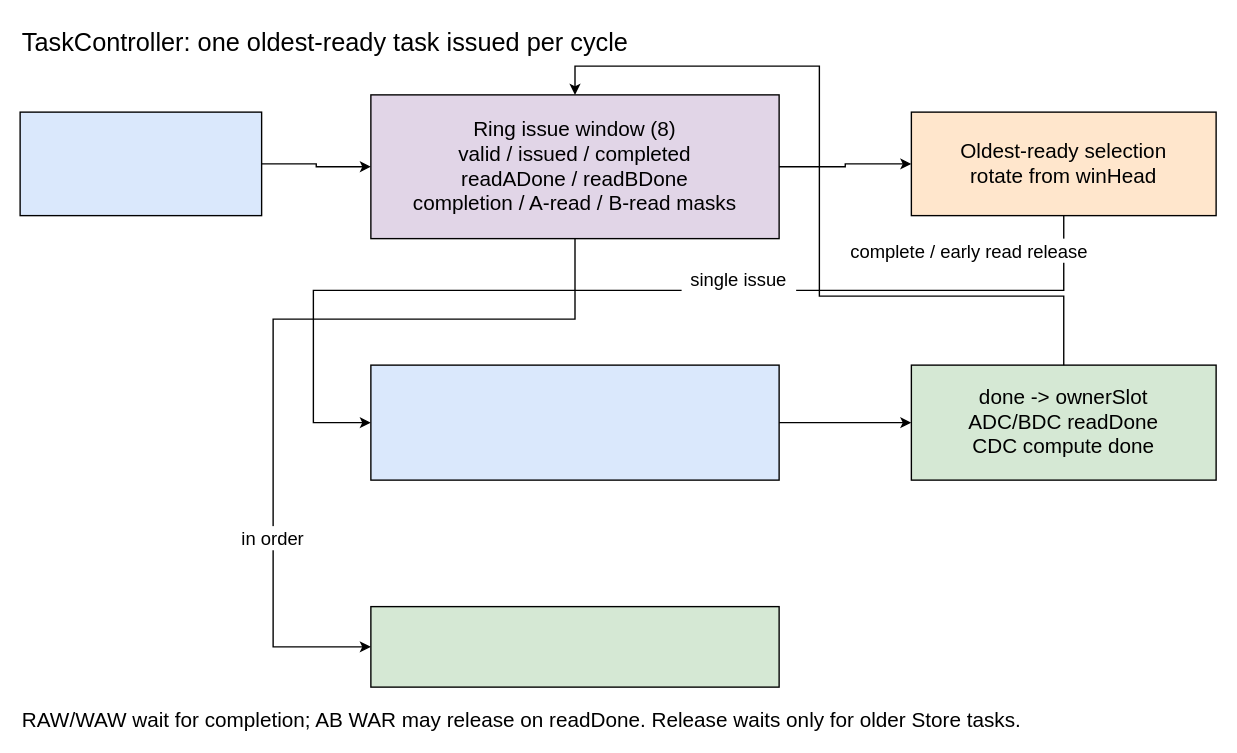
This 1237x753 diagram has some shape labels left out. Here are the shapes that lost their labels. From the top down, the box of each, then its label:
(19, 111, 262, 216): Decoded FIFO (8) AmuCtrl / normalized op
(370, 364, 779, 480): 5 FU owner trackers AML / BML / CML load CML store / Compute
(370, 605, 779, 687): Retire completed head advance ring head
